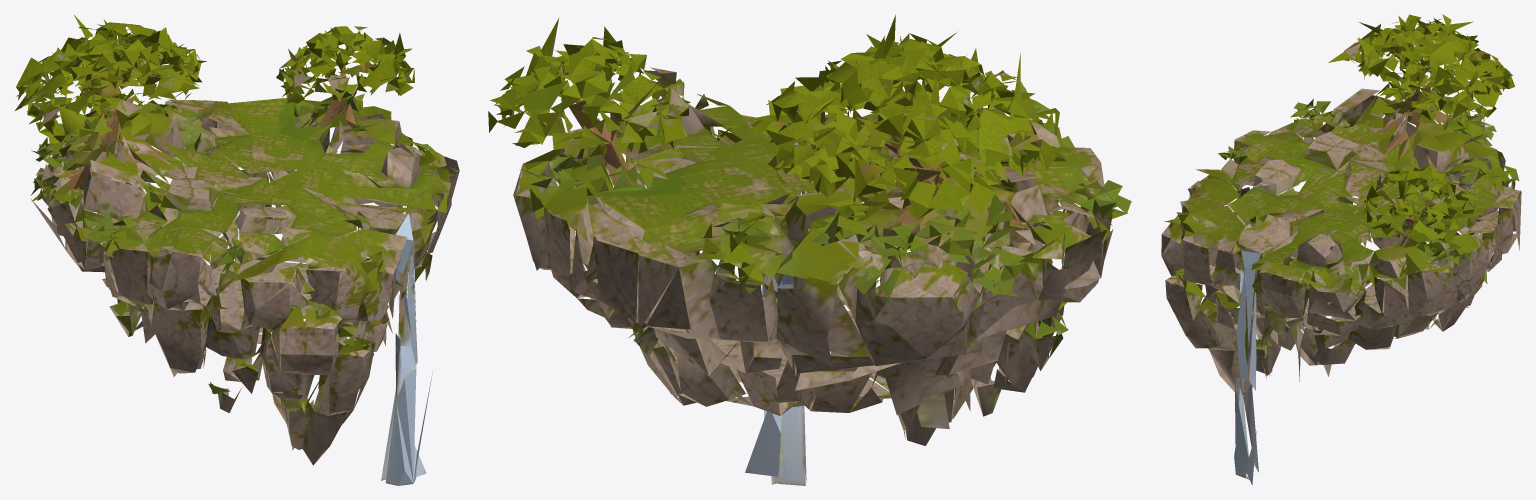
The model's file is island.glb.
The picture shows the model from 3 angles, left to right: view 1: azimuth 30°, elevation 25°; view 2: azimuth 150°, elevation 25°; view 3: azimuth 270°, elevation 25°; orthographic projection. The views are drawn at different scales.
Visible parts, largest first — view 1: Mesh_0; view 2: Mesh_0; view 3: Mesh_0.
Part boxes in pixels (x1=…): Mesh_0: x1=15, y1=15, x2=459, y2=485; Mesh_0: x1=488, y1=15, x2=1131, y2=485; Mesh_0: x1=1161, y1=14, x2=1521, y2=484.
Bounding box in the file's own units: 1.82 × 1.93 × 1.66.
1 material, 1 textured.
